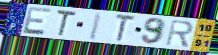9: (140, 17, 168, 46)
E: (22, 6, 54, 36)
I: (87, 12, 105, 41)
R: (164, 18, 195, 48)
T: (114, 13, 138, 43), (55, 8, 78, 38)
